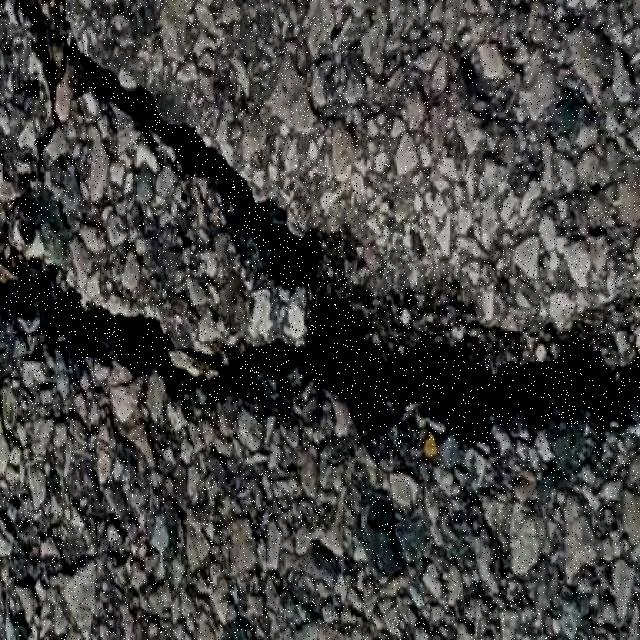Crack: (0, 0, 640, 446)
